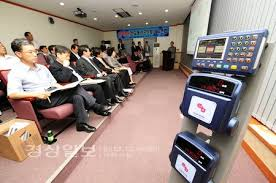terminal: (177, 72, 249, 135)
